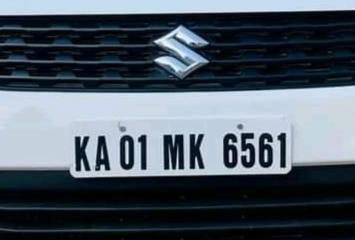0: (118, 132, 136, 172)
1: (135, 133, 154, 172), (276, 130, 289, 171)
5: (240, 131, 257, 169)
6: (256, 131, 276, 168), (221, 129, 239, 168)
A: (93, 132, 112, 175)
K: (71, 133, 92, 176), (187, 131, 206, 174)
M: (161, 131, 186, 172)
